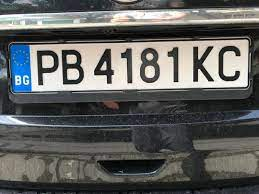registration_plate: (5, 40, 252, 98)
